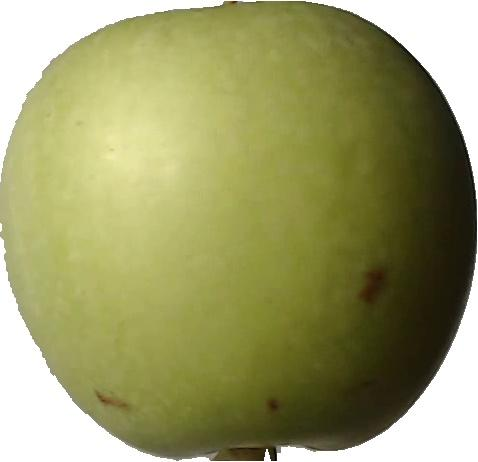Apple Unripe: (0, 10, 478, 462)
